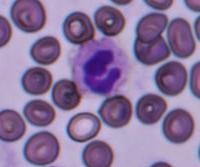N: (70, 37, 130, 97)
